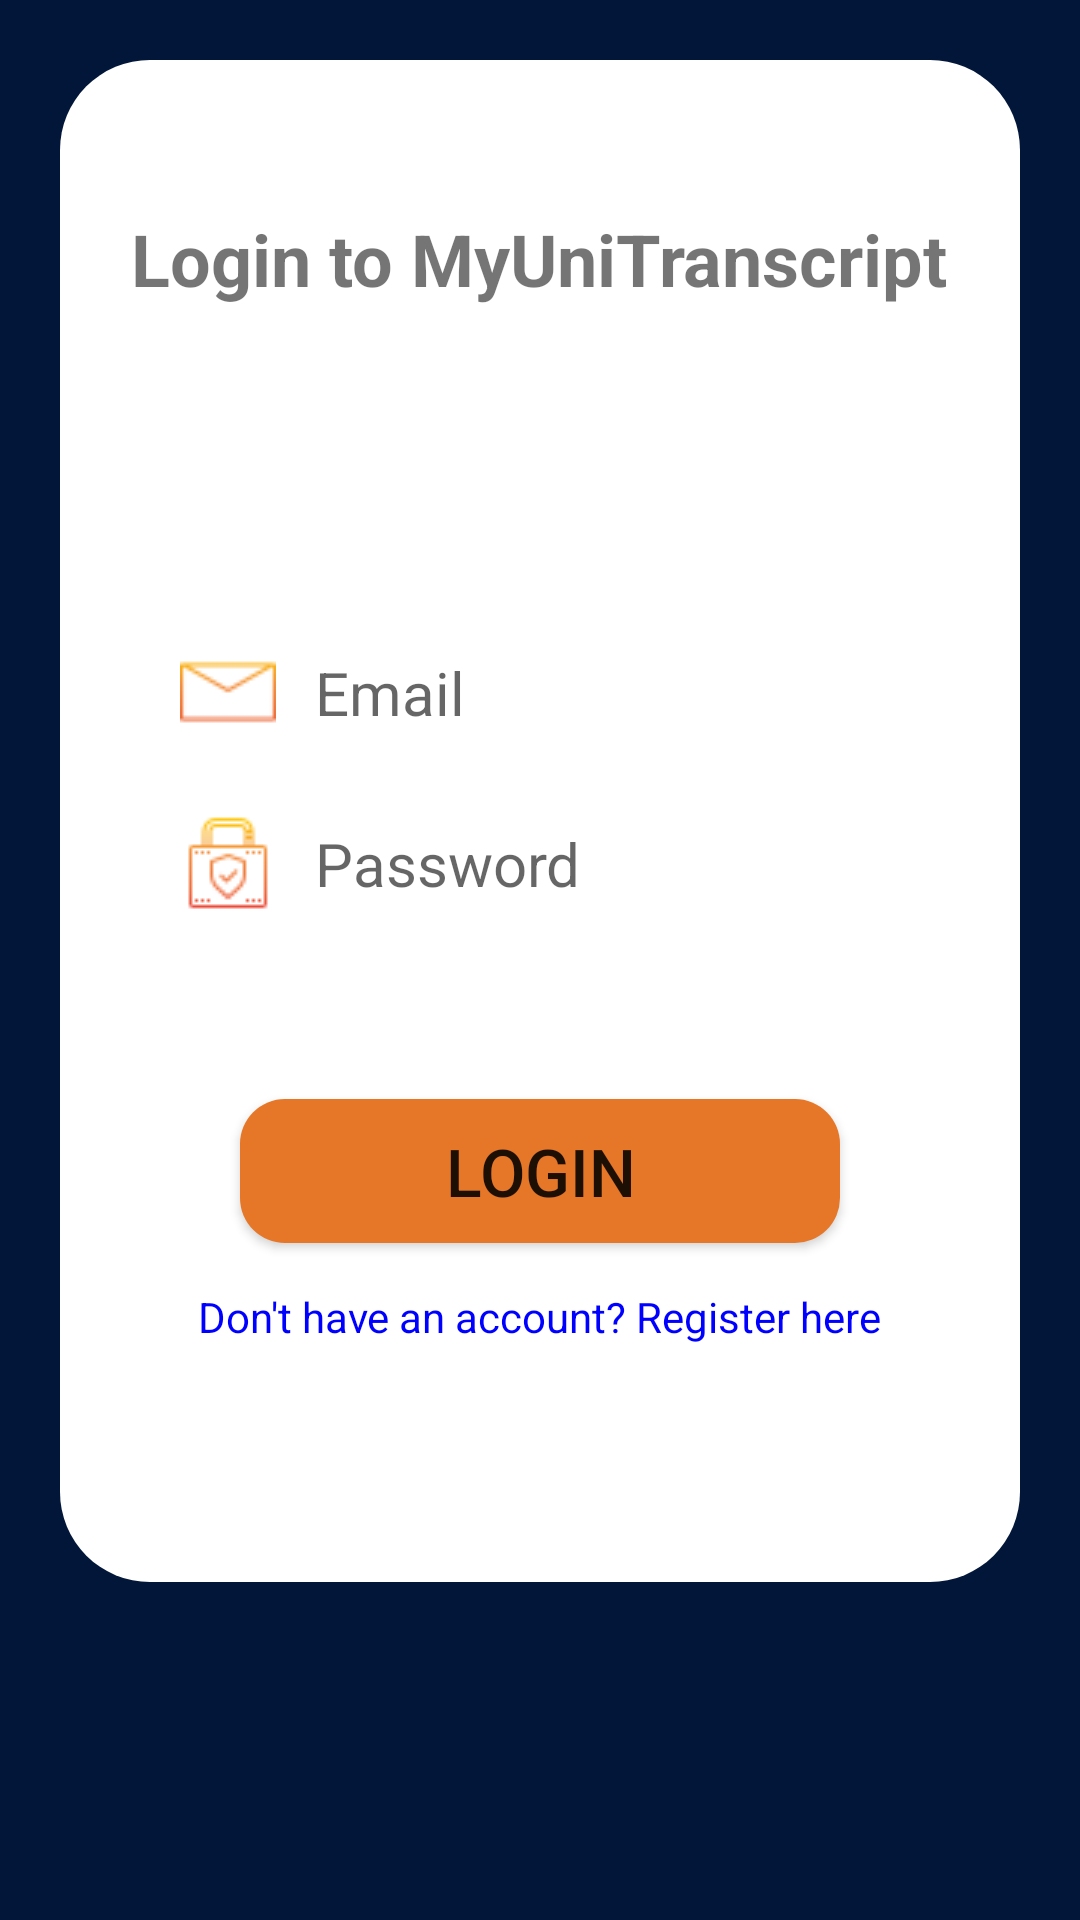

Point at icon controls on the screen. Image size 1080px×1920px, points as point (x, y).
lock: point (228, 863)
